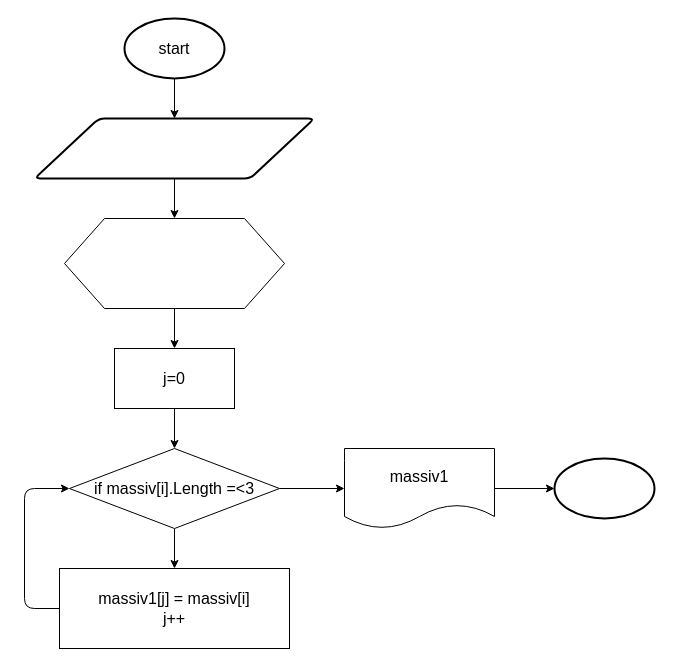
This 673x666 diagram has some shape labels left out. The centre of each missing label's shape, as x and y in pixels:
"finish" goes at pixel 604 488.
"i = 0 to massiv.Length" goes at pixel 174 263.
"massiv" goes at pixel 174 148.
